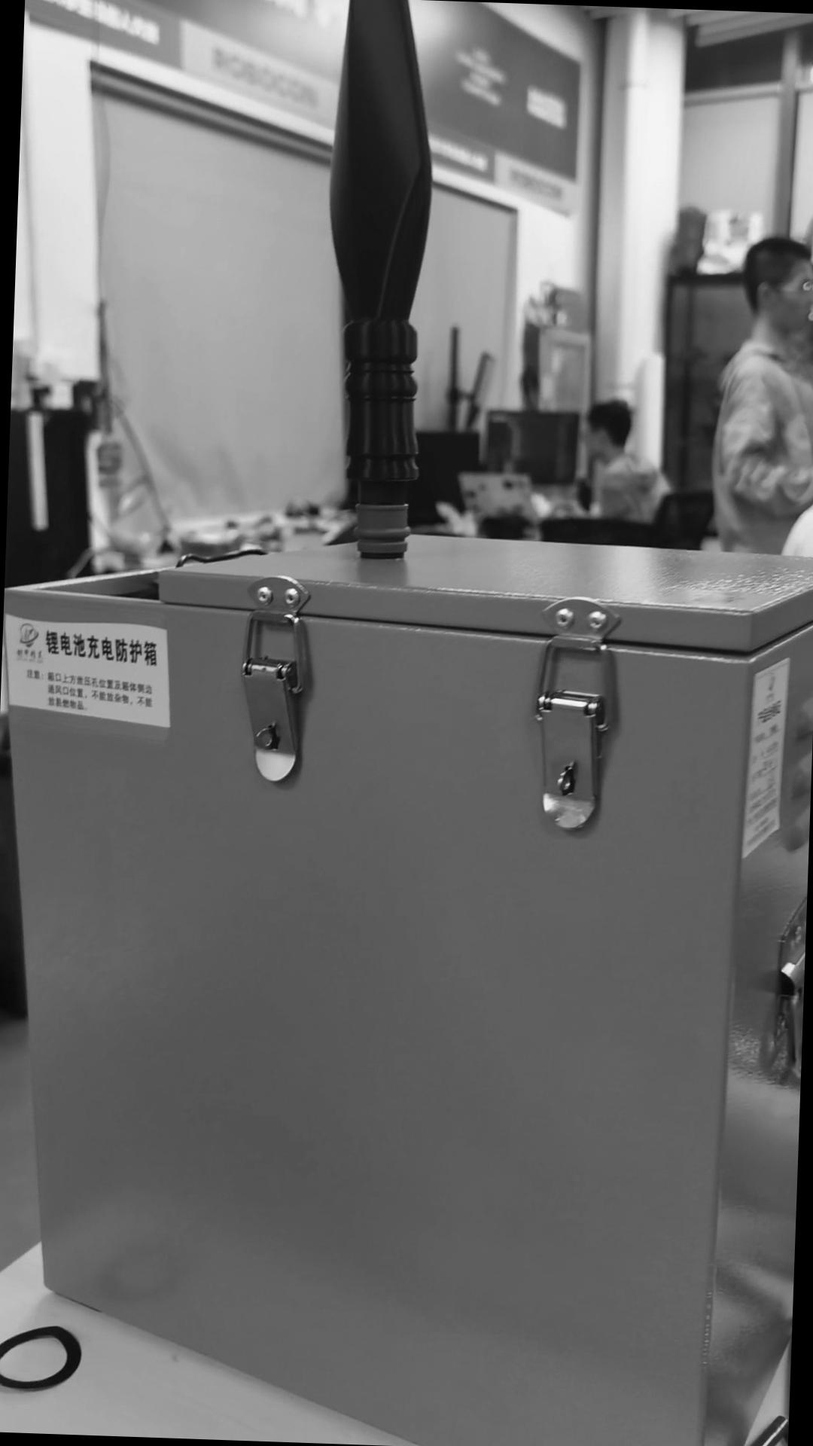base: (355, 499, 413, 559)
